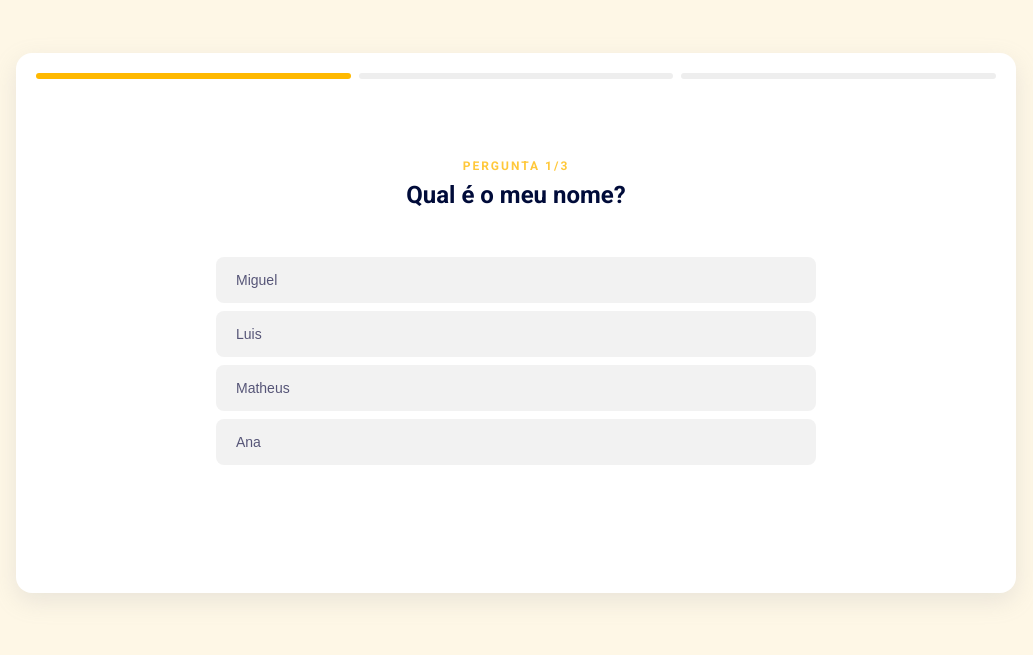
Quiz App › can answer any question
This screenshot has width=1033, height=655.
Click the button "Matheus": point(263, 388) [216,365,816,411]
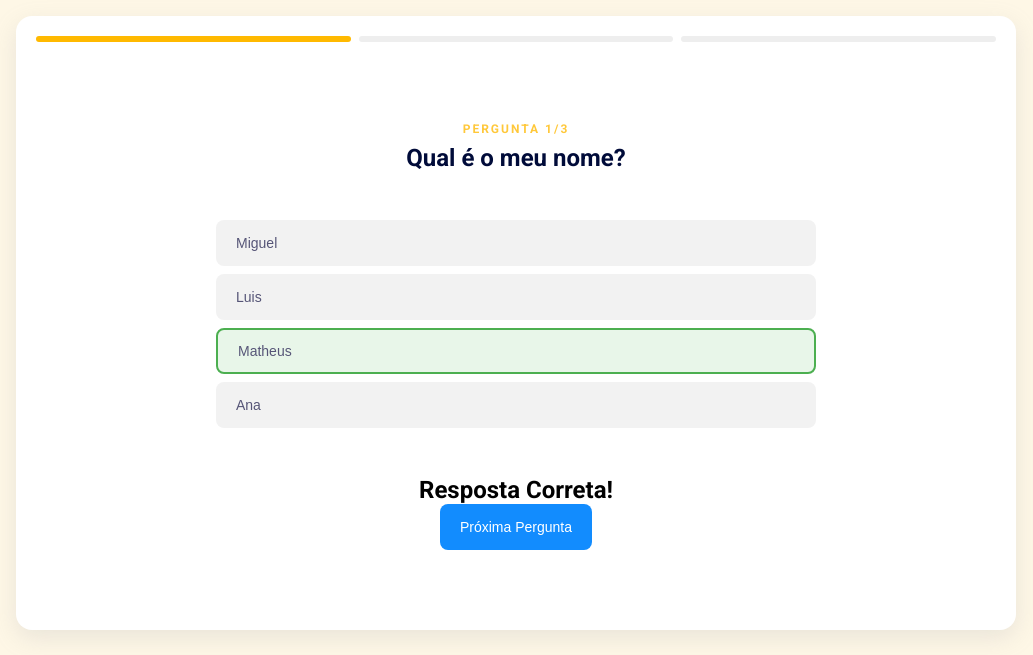
Now the button "Próxima Pergunta" is shown, box [440,504,592,550]
